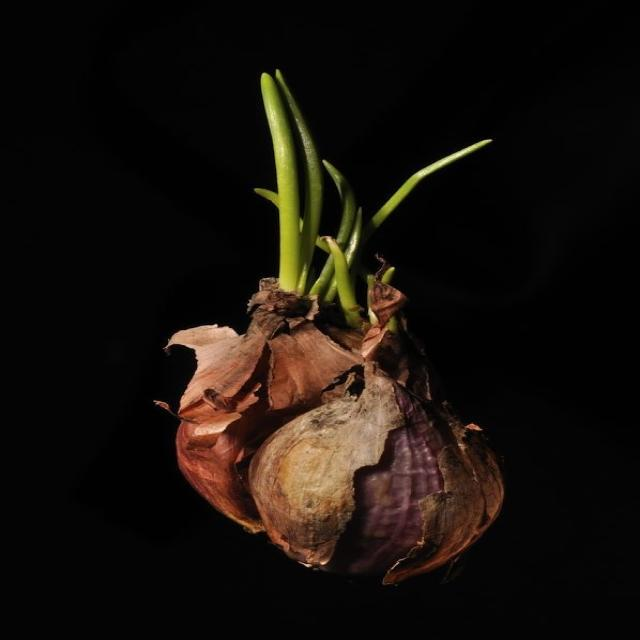sprouting: (180, 33, 511, 596)
